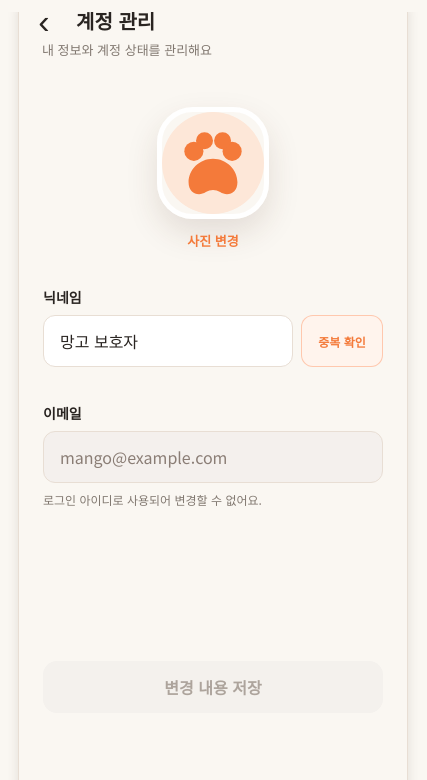
Scenario: AccountProfilePage › invalidates the previous availability check when the nickname changes
Click the button with aria-label "닉네임 중복 확인" at {"x": 342, "y": 341}, box [301, 315, 383, 367]
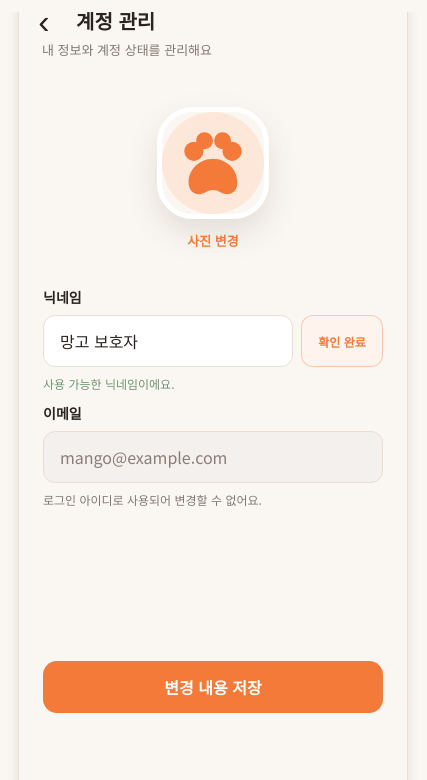
Expected: the text "사용 가능한 닉네임이에요." is shown, [43, 375, 174, 392]
Replace the text in the field labelled "닉네임" with "새 닉네임" at {"x": 168, "y": 341}, box [43, 315, 293, 367]
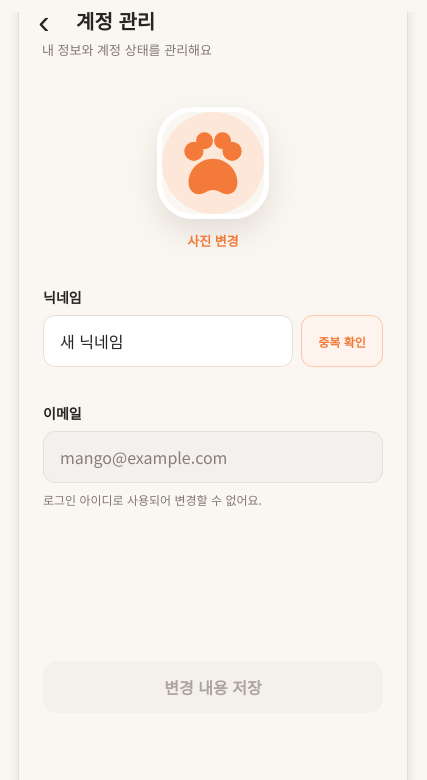
Expected: the text "사용 가능한 닉네임이에요." is gone
Expected: the button "변경 내용 저장" is disabled, [43, 661, 383, 713]
